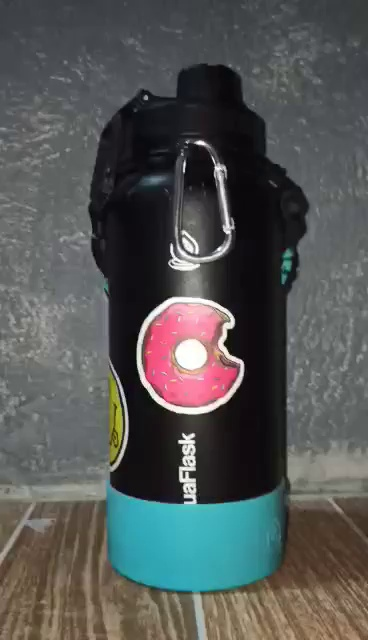tumbler: (88, 68, 312, 591)
